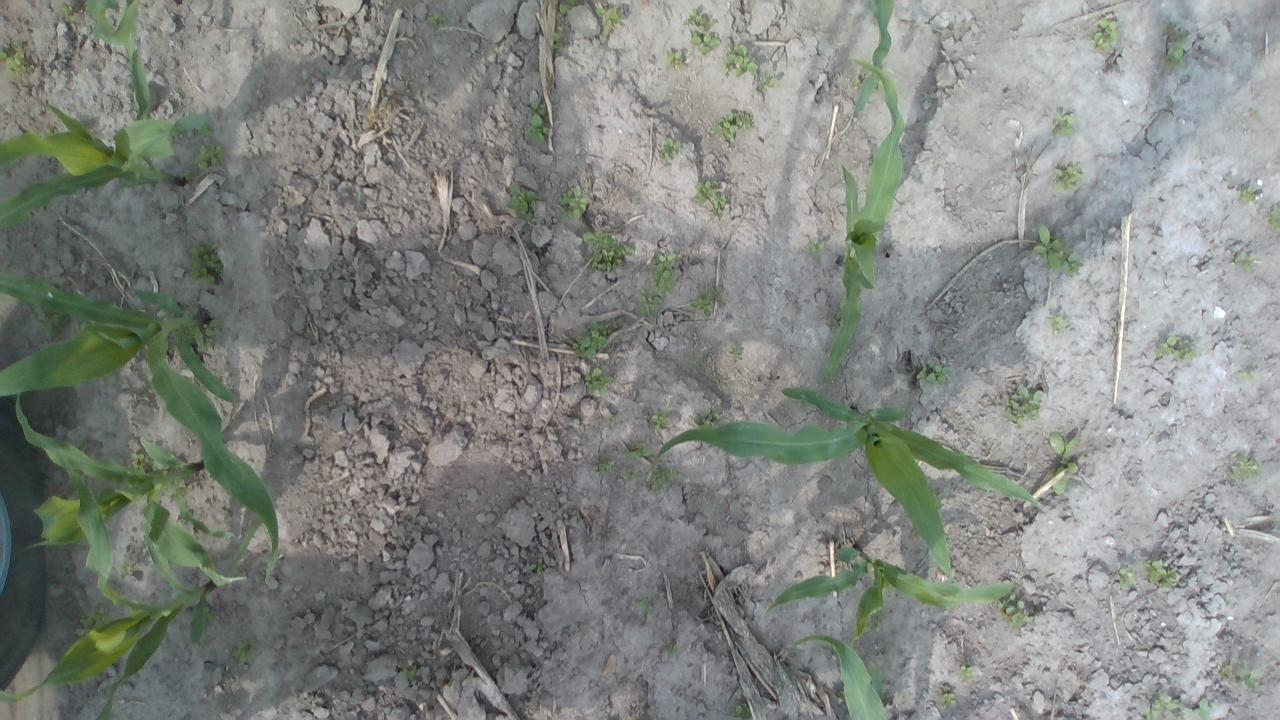Maize: (0, 272, 282, 586), (648, 386, 1048, 578), (0, 457, 212, 720), (12, 391, 252, 586), (0, 35, 210, 233), (822, 56, 908, 386), (768, 542, 1016, 640), (794, 631, 894, 720), (850, 0, 894, 116), (84, 0, 181, 49)
Weeds: (1032, 224, 1083, 278), (581, 228, 634, 274), (1047, 431, 1081, 496), (1006, 385, 1048, 428), (685, 9, 722, 54), (190, 239, 223, 288), (502, 180, 538, 224), (572, 320, 609, 360), (524, 90, 552, 142), (1158, 23, 1188, 71), (998, 594, 1034, 632), (30, 303, 70, 337), (1155, 334, 1200, 364), (650, 251, 679, 297), (688, 288, 728, 320), (712, 110, 752, 142), (646, 458, 681, 494), (692, 180, 726, 217), (722, 44, 758, 77), (556, 185, 589, 219), (1088, 16, 1120, 50), (1142, 693, 1182, 720), (191, 321, 223, 352), (1230, 455, 1262, 485), (1142, 558, 1176, 586), (190, 144, 224, 172), (916, 360, 951, 386), (74, 609, 106, 636), (1054, 165, 1083, 193), (584, 367, 614, 394), (0, 48, 28, 76), (230, 638, 258, 666), (637, 288, 664, 314), (594, 7, 622, 32), (1049, 112, 1076, 137), (1236, 666, 1264, 690), (649, 406, 673, 432), (620, 441, 650, 461), (126, 444, 146, 474), (694, 406, 720, 429), (1234, 252, 1260, 274), (118, 554, 138, 578), (1192, 699, 1214, 720), (1116, 566, 1136, 589), (1048, 314, 1071, 334), (759, 72, 780, 93), (660, 138, 679, 160), (1266, 206, 1280, 234), (192, 122, 216, 138), (939, 687, 958, 706), (664, 46, 682, 66), (550, 30, 566, 52), (637, 596, 656, 614), (806, 239, 826, 256), (558, 0, 582, 14), (731, 703, 750, 720), (1239, 186, 1256, 204), (55, 0, 72, 17), (528, 558, 546, 574), (664, 640, 680, 658), (867, 614, 884, 630), (703, 372, 722, 386), (621, 470, 642, 482), (74, 432, 88, 450), (960, 664, 976, 679), (728, 344, 741, 360), (426, 15, 446, 25), (872, 79, 883, 96), (398, 669, 415, 680), (604, 415, 618, 428), (598, 462, 613, 474), (850, 79, 864, 91), (181, 168, 193, 182), (1238, 370, 1254, 380), (1221, 664, 1233, 676), (1250, 110, 1262, 121), (726, 494, 737, 504)
